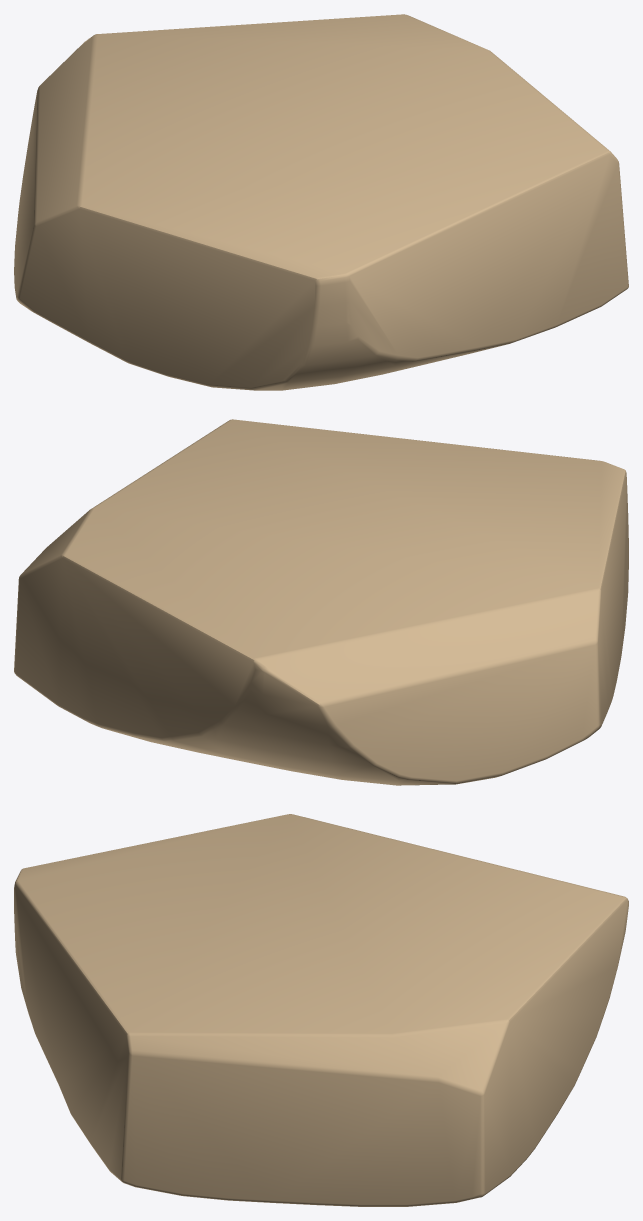
The model's file is rock_slab_01.glb.
The picture shows the model from 3 angles, top to bottom: view 1: azimuth 30°, elevation 25°; view 2: azimuth 150°, elevation 25°; view 3: azimuth 270°, elevation 25°; orthographic projection. The views are drawn at different scales.
Visible parts, largest first — view 1: rock_slab_01; view 2: rock_slab_01; view 3: rock_slab_01.
Boxes of the visible parts, left/top/right/bottom form: rock_slab_01: left=14, top=14, right=628, bottom=390; rock_slab_01: left=14, top=419, right=628, bottom=785; rock_slab_01: left=14, top=814, right=628, bottom=1206.
Size of the model in its own units: 2.5 by 0.8113 by 2.5.
